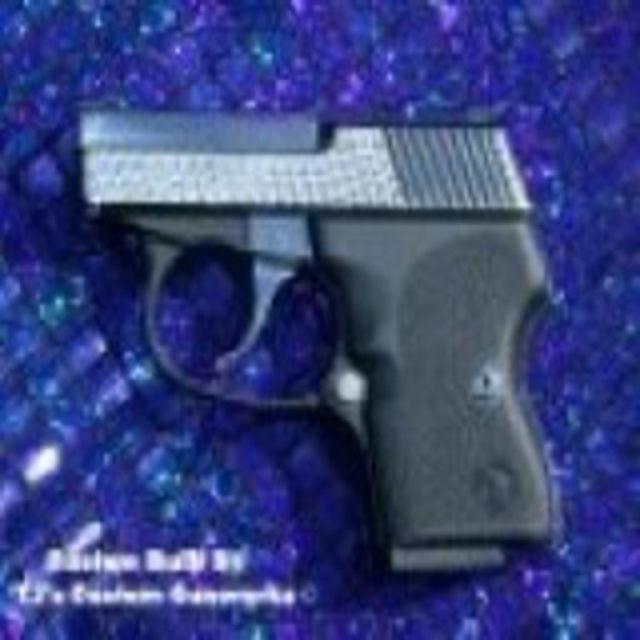pistol: (68, 95, 564, 570)
